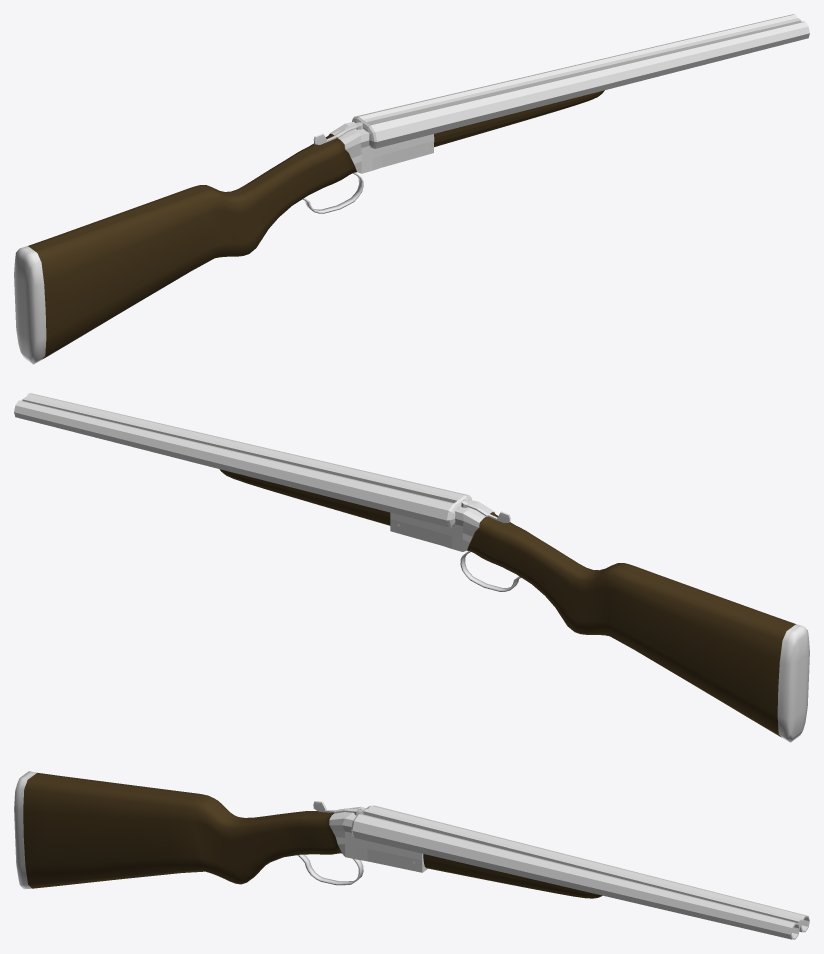
File: w_double.fbx
3 renders of one model, top to bottom at view 1: azimuth 30°, elevation 25°; view 2: azimuth 150°, elevation 25°; view 3: azimuth 330°, elevation 25°, orthographic.
Visible parts, largest first — view 1: boomstick; view 2: boomstick; view 3: boomstick.
Part boxes in pixels (bbox=[...]): boomstick: bbox=[14, 14, 809, 364]; boomstick: bbox=[14, 393, 809, 742]; boomstick: bbox=[14, 771, 809, 939].
Size of the model in its own units: 992 by 192 by 54.98.
